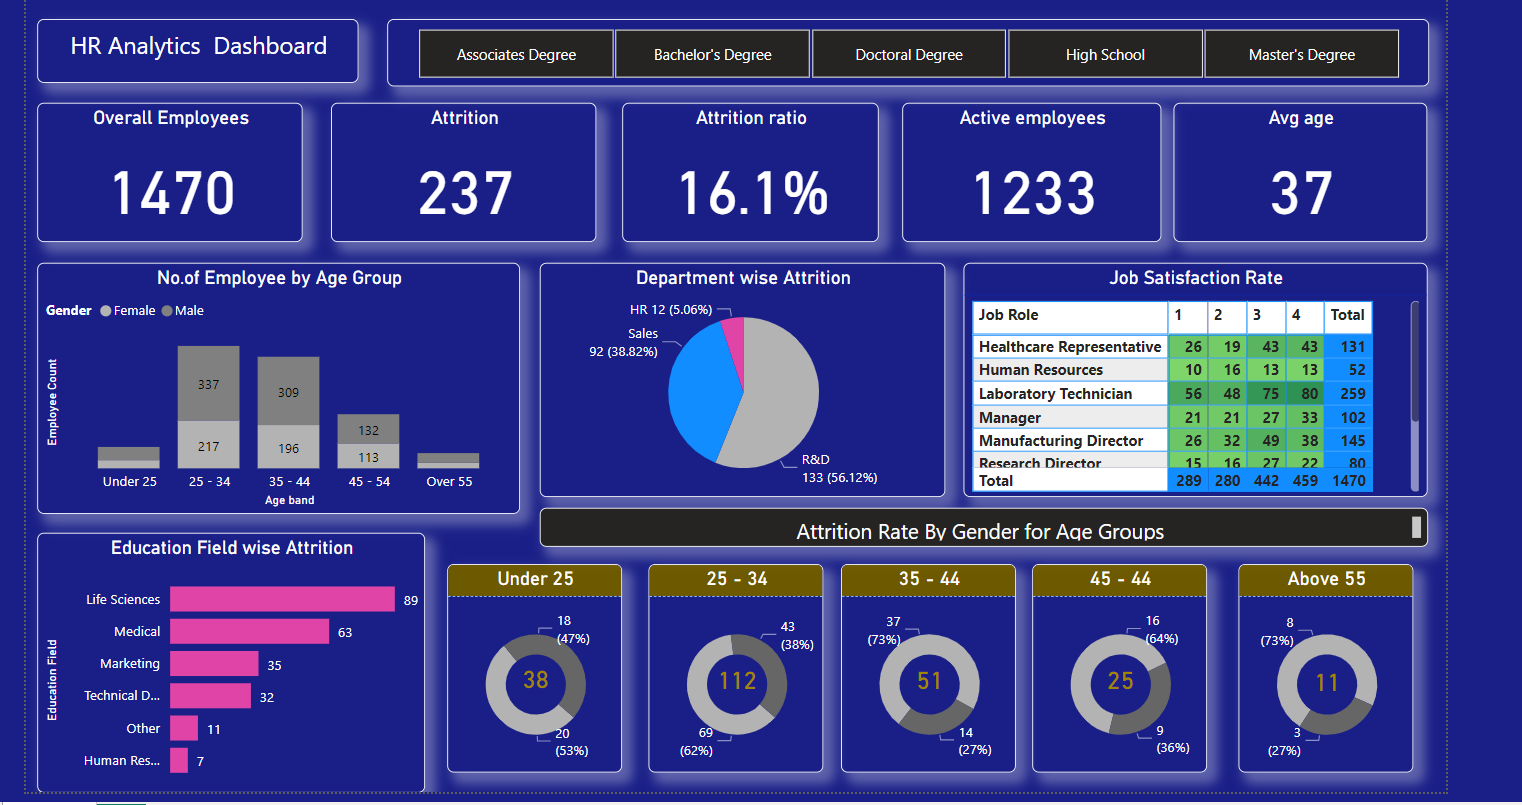

This screenshot's page, from the dashboard's own definition file:
{"tool":"powerbi","page":{"name":"Page 1","canvas":[1280,720],"ordinal":0},"visuals":[{"type":"textbox","box":[9.8,22,289.7,57.5],"z":0},{"type":"card","title":"Overall Employees","fields":{"Values":["Sum(Table1.Employee Count)"]},"box":[9.8,97.8,239.6,125.9],"z":1000},{"type":"card","title":"Attrition","fields":{"Values":["Table1.attrition_yes"]},"box":[275,97.8,239.6,125.9],"z":2000},{"type":"card","title":"Attrition ratio","fields":{"Values":["Table1.attrition_ratio"]},"box":[537.9,97.8,231,125.9],"z":3000},{"type":"card","title":"Active employees","fields":{"Values":["Table1.active_emp"]},"box":[789.7,97.8,233.5,125.9],"z":4000},{"type":"card","title":"Avg age","fields":{"Values":["Table1.avg_age"]},"box":[1034.2,97.8,228.6,125.9],"z":5000},{"type":"pieChart","title":"Department wise  Attrition","fields":{"Category":["Table1.Department"],"Y":["Table1.attrition_yes"]},"box":[463.3,242,365.5,211.5],"z":6000},{"type":"columnChart","title":"No.of Employee by Age Group","fields":{"Series":["Table1.Gender"],"Category":["Table1.CF_age band"],"Y":["Sum(Table1.Employee Count)"]},"box":[9.8,242,435.2,226.1],"z":7000},{"type":"pivotTable","title":"Job Satisfaction Rate","fields":{"Rows":["Table1.Job Role"],"Columns":["Table1.Job Satisfaction"],"Values":["Sum(Table1.Employee Count)"]},"box":[844.7,242,418.1,211.5],"z":8000},{"type":"clusteredBarChart","title":"Education Field wise Attrition","fields":{"Category":["Table1.Education Field"],"Y":["Table1.attrition_yes"]},"box":[9.8,485.3,349.6,234.7],"z":9000},{"type":"donutChart","title":"Under 25","fields":{"Category":["Table1.Gender"],"Y":["Table1.attrition_yes"]},"box":[380.2,513.4,157.7,188.3],"z":10000},{"type":"donutChart","title":" 25 - 34","fields":{"Category":["Table1.Gender"],"Y":["Table1.attrition_yes"]},"box":[561.1,513.4,157.7,188.3],"z":10001},{"type":"donutChart","title":"35 - 44","fields":{"Category":["Table1.Gender"],"Y":["Table1.attrition_yes"]},"box":[734.7,513.4,157.7,188.3],"z":10002},{"type":"donutChart","title":"45 - 44","fields":{"Category":["Table1.Gender"],"Y":["Table1.attrition_yes"]},"box":[907,513.4,157.7,188.3],"z":10003},{"type":"donutChart","title":"Above 55","fields":{"Category":["Table1.Gender"],"Y":["Table1.attrition_yes"]},"box":[1092.8,513.4,157.7,188.3],"z":10004},{"type":"textbox","box":[463.3,463.3,800.7,35.4],"z":10005},{"type":"card","fields":{"Values":["Table1.attrition_yes"]},"box":[420.5,591.6,78.2,52.6],"z":10006},{"type":"card","fields":{"Values":["Table1.attrition_yes"]},"box":[775,592.9,78.2,52.6],"z":10007},{"type":"card","fields":{"Values":["Table1.attrition_yes"]},"box":[601.4,592.9,78.2,52.6],"z":10008},{"type":"card","fields":{"Values":["Table1.attrition_yes"]},"box":[947.4,592.9,78.2,52.6],"z":10009},{"type":"card","fields":{"Values":["Table1.attrition_yes"]},"box":[1133.2,594.1,78.2,52.6],"z":10010},{"type":"slicer","fields":{"Values":["Table1.Education"]},"box":[325.2,22,938.8,61.1],"z":10011}]}

Visuals, with their boxes in screenshot pixels (x1, y1, x2, y2):
textbox: [39, 16, 358, 80]
"Overall Employees" card: [39, 100, 303, 239]
"Attrition" card: [331, 100, 595, 239]
"Attrition ratio" card: [621, 100, 875, 239]
"Active employees" card: [898, 100, 1155, 239]
"Avg age" card: [1167, 100, 1419, 239]
"Department wise  Attrition" pieChart: [538, 259, 941, 492]
"No.of Employee by Age Group" columnChart: [39, 259, 518, 508]
"Job Satisfaction Rate" pivotTable: [959, 259, 1419, 492]
"Education Field wise Attrition" clusteredBarChart: [39, 527, 424, 786]
"Under 25" donutChart: [447, 558, 621, 765]
" 25 - 34" donutChart: [646, 558, 820, 765]
"35 - 44" donutChart: [837, 558, 1011, 765]
"45 - 44" donutChart: [1027, 558, 1201, 765]
"Above 55" donutChart: [1232, 558, 1406, 765]
textbox: [538, 503, 1421, 542]
card - Table1.attrition_yes: [491, 644, 577, 702]
card - Table1.attrition_yes: [882, 645, 968, 703]
card - Table1.attrition_yes: [691, 645, 777, 703]
card - Table1.attrition_yes: [1072, 645, 1158, 703]
card - Table1.attrition_yes: [1277, 647, 1363, 705]
slicer - Table1.Education: [386, 16, 1421, 84]
